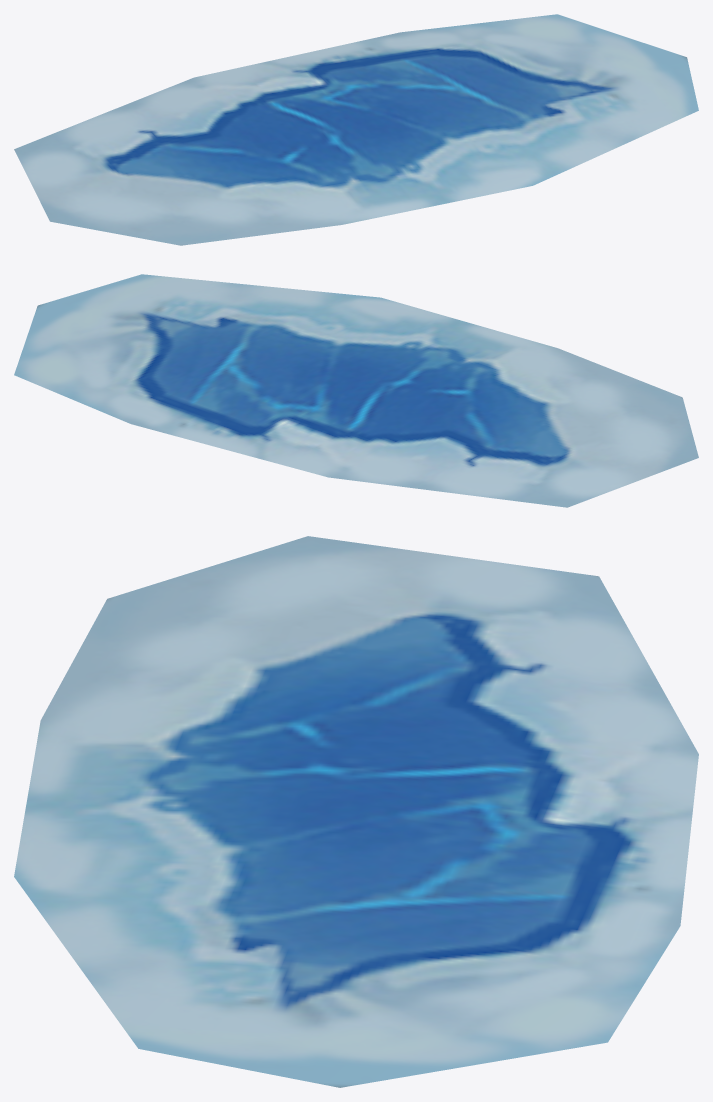
File: BingKeng04.FBX
The picture shows the model from 3 angles, top to bottom: view 1: azimuth 30°, elevation 25°; view 2: azimuth 150°, elevation 25°; view 3: azimuth 270°, elevation 25°; orthographic projection. The views are drawn at different scales.
Visible parts, largest first — view 1: BingKeng04; view 2: BingKeng04; view 3: BingKeng04.
Boxes of the visible parts, bbox=[...] form: BingKeng04: bbox=[14, 14, 698, 245]; BingKeng04: bbox=[14, 274, 698, 507]; BingKeng04: bbox=[14, 536, 698, 1087].
Size of the model in its own units: 247 by 3.35 by 130.
